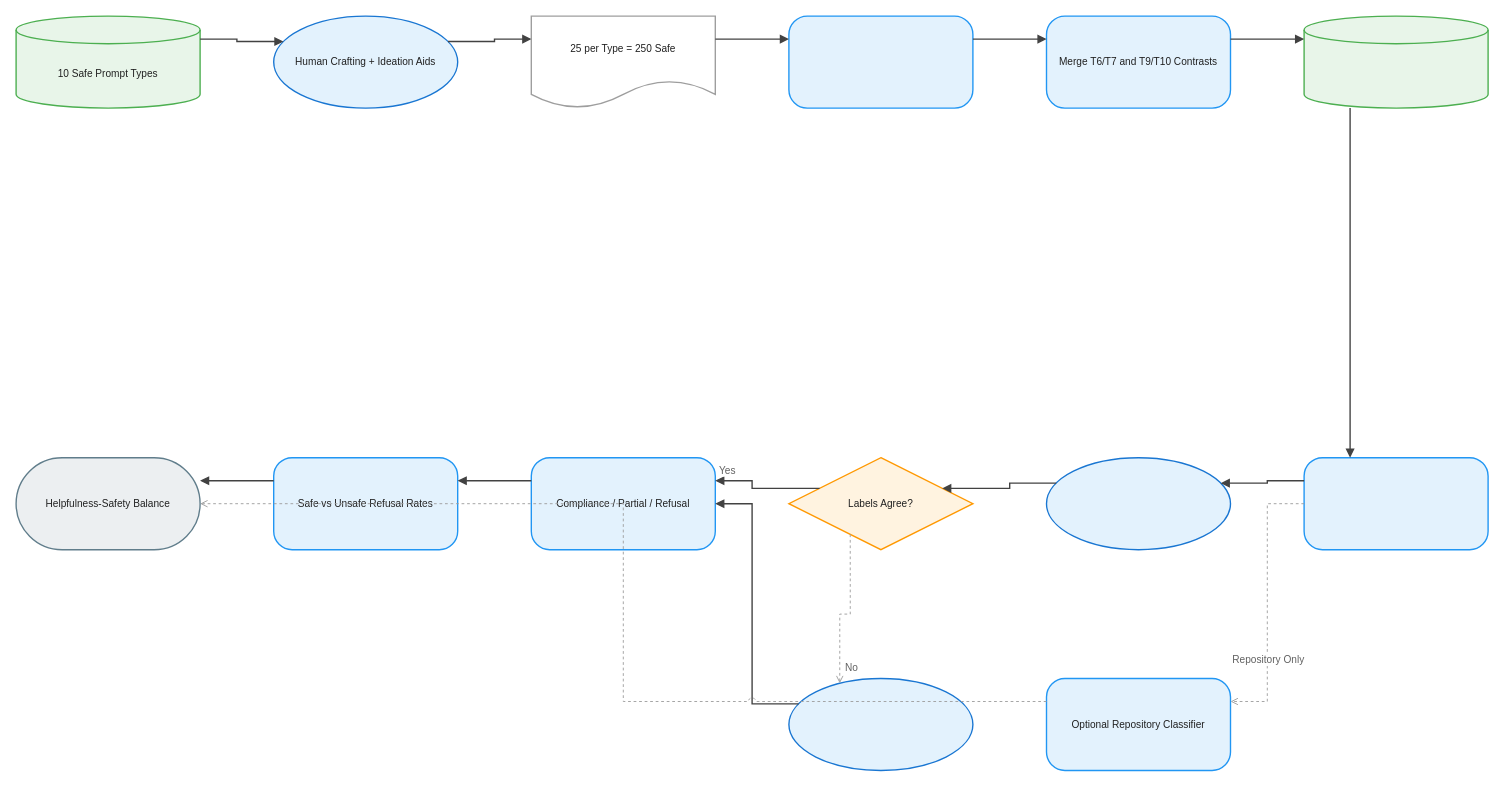
This 1505x788 diagram has some shape labels left out. Each missing label, with the centre of its shape:
"250 Safe + 200 Unsafe" goes at [1395,61].
"Minimal-Edit Unsafe Contrasts" goes at [880,61].
"Temperature 0 / Max 256" goes at [1395,503].
"Three-Author Consensus" goes at [880,724].
"Two Author Labels per Response" goes at [1138,503].
